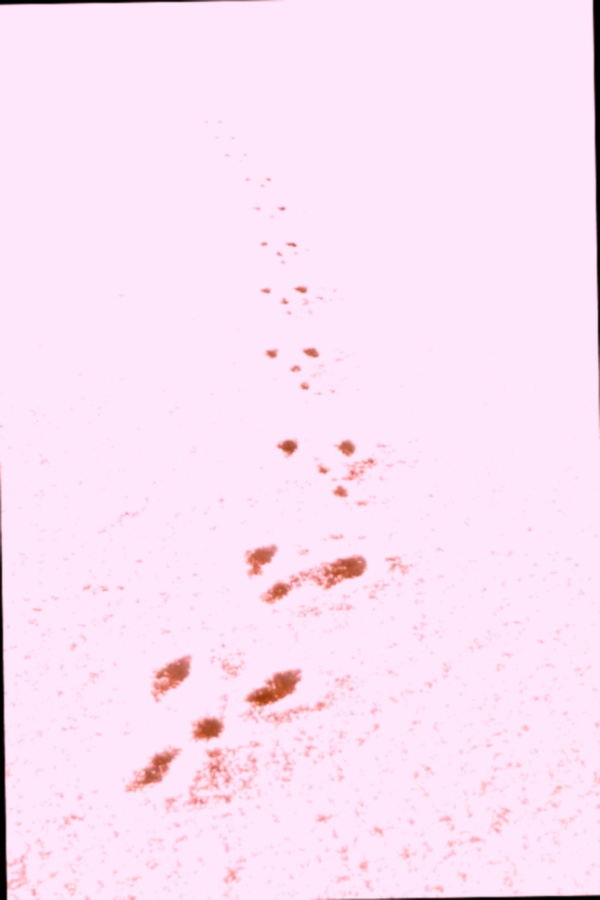lapin: (280, 633, 491, 815), (217, 522, 401, 607), (209, 425, 347, 515), (258, 334, 351, 408), (277, 274, 351, 322)
